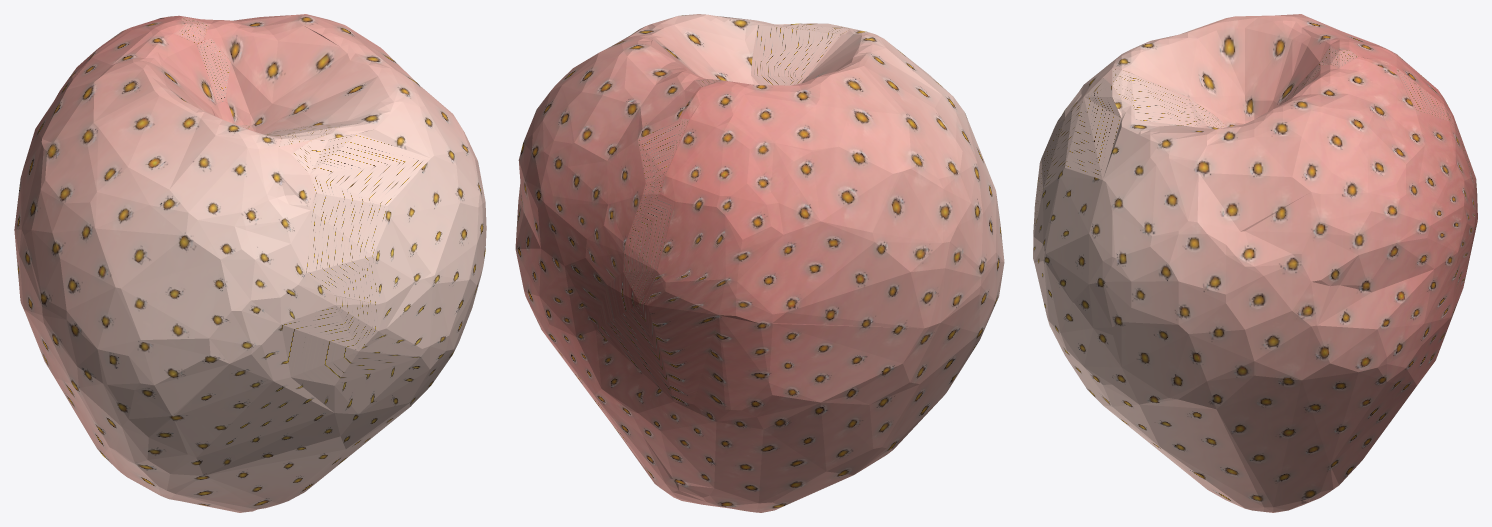
3 views of the same model, side by side, from view 1: azimuth 30°, elevation 25°; view 2: azimuth 150°, elevation 25°; view 3: azimuth 270°, elevation 25° (orthographic). The views are drawn at different scales.
Parts seen in each view (by area): view 1: _000_Meshed; view 2: _000_Meshed; view 3: _000_Meshed.
Part boxes in pixels (x1,y1,x2,y2): _000_Meshed: (14, 14, 486, 512); _000_Meshed: (515, 14, 1004, 512); _000_Meshed: (1033, 14, 1477, 512).
Bounding box in the file's own units: 0.1127 × 0.1062 × 0.1159.
1 material, 1 textured.
